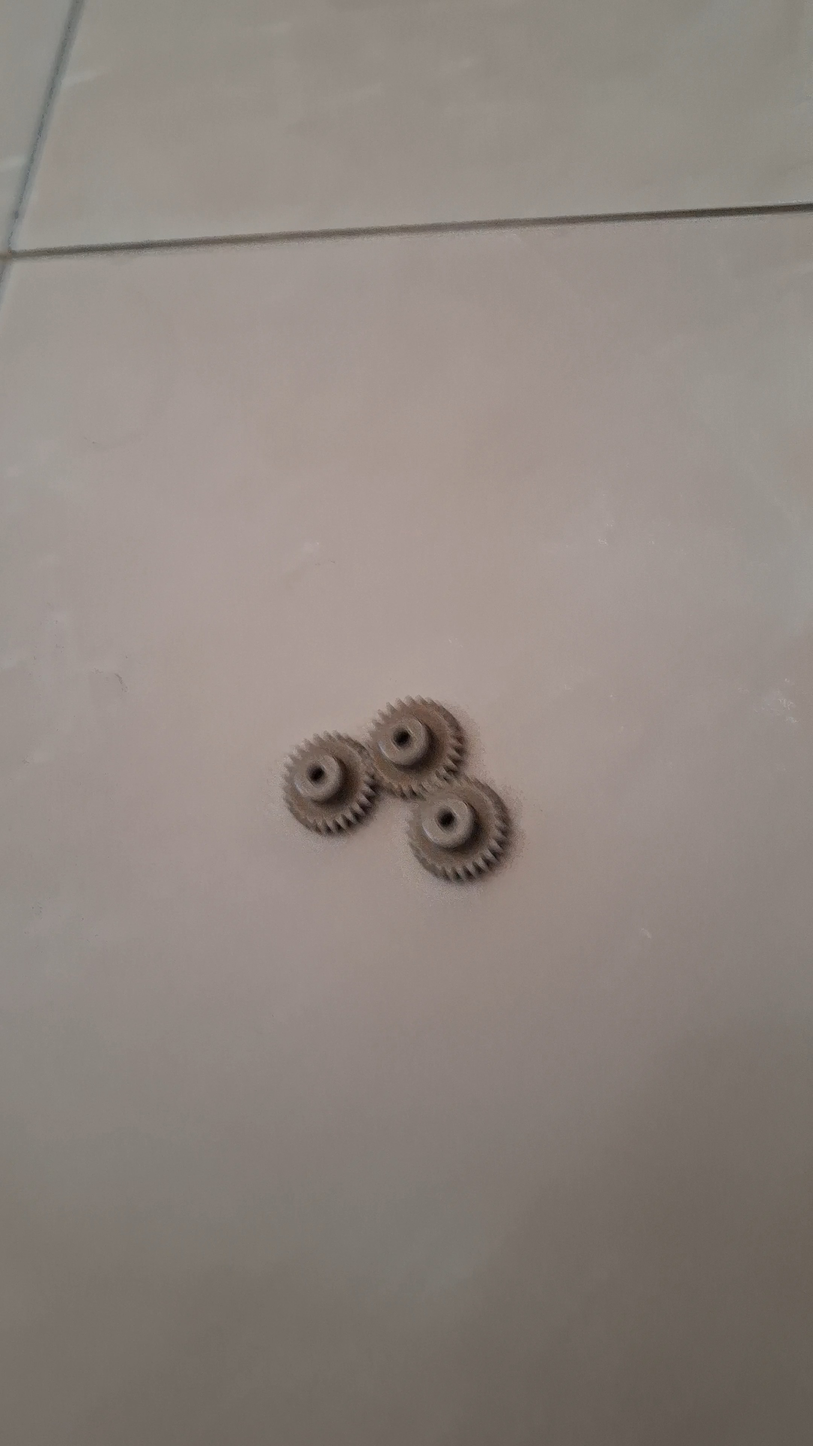spur gear: (409, 777, 509, 881), (368, 698, 464, 797), (284, 734, 375, 834)
